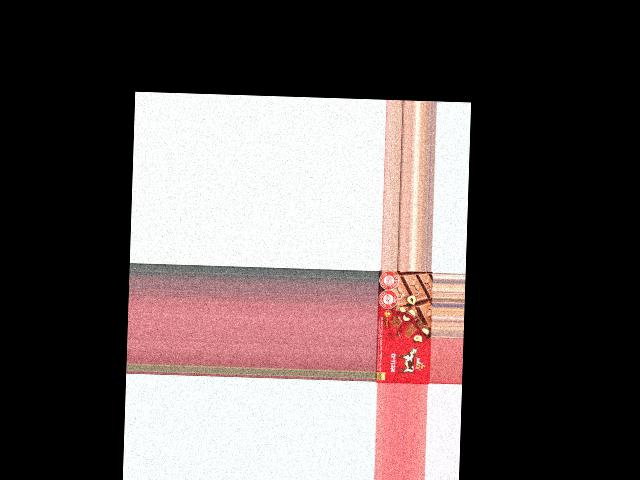chocolate: (376, 271, 432, 384)
